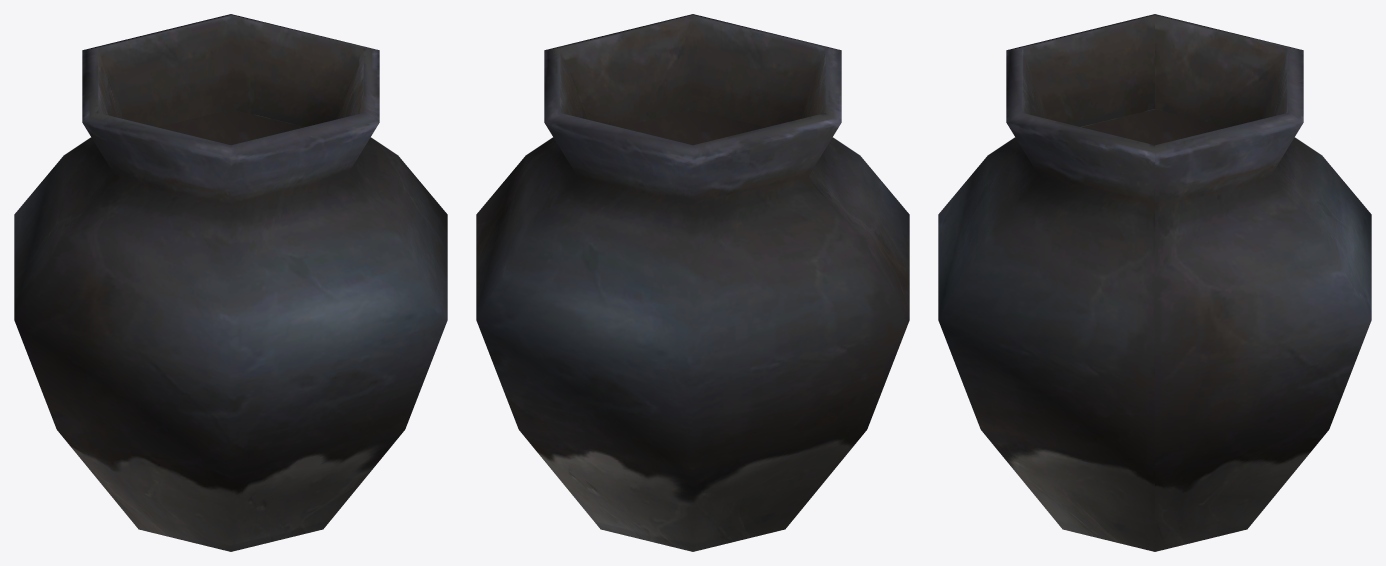
File: q01c_thing_03.FBX
3 renders of one model, left to right at view 1: azimuth 30°, elevation 25°; view 2: azimuth 150°, elevation 25°; view 3: azimuth 270°, elevation 25°, orthographic.
Visible parts, largest first — view 1: q01c_thing_03; view 2: q01c_thing_03; view 3: q01c_thing_03.
Part boxes in pixels (x1,y1,x2,y2): q01c_thing_03: (14, 14, 447, 551); q01c_thing_03: (476, 14, 909, 551); q01c_thing_03: (938, 14, 1371, 551).
Bounding box in the file's own units: 82.09 × 77.17 × 71.09.
